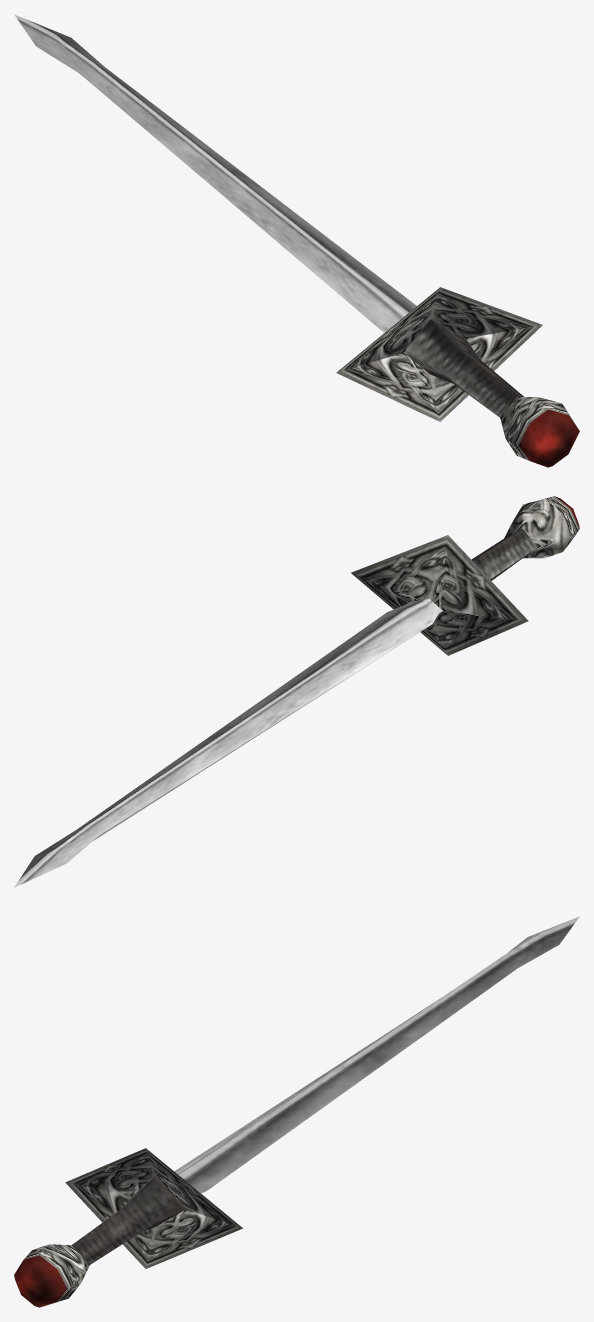
File: pir_m_hnd_swd_broadsword_c.fbx
3 views of the same model, one above another, from view 1: azimuth 30°, elevation 25°; view 2: azimuth 150°, elevation 25°; view 3: azimuth 330°, elevation 25° (orthographic). The views are drawn at different scales.
Parts seen in each view (by area): view 1: blade, guard, grip, pommel; view 2: blade, guard, grip; view 3: blade, guard, grip, pommel.
Boxes of the visible parts, x1,y1,x2,y2 form: blade: [14, 14, 416, 332]; guard: [336, 287, 577, 460]; grip: [404, 319, 523, 417]; pommel: [519, 409, 579, 467]; blade: [14, 599, 442, 887]; guard: [351, 496, 579, 655]; grip: [471, 528, 537, 580]; blade: [174, 916, 579, 1193]; guard: [24, 1148, 242, 1302]; grip: [71, 1177, 185, 1264]; pommel: [14, 1255, 67, 1307].
Size of the model in its own units: 68.2 by 43.41 by 336.
Materials: 1 (1 with a texture image).
